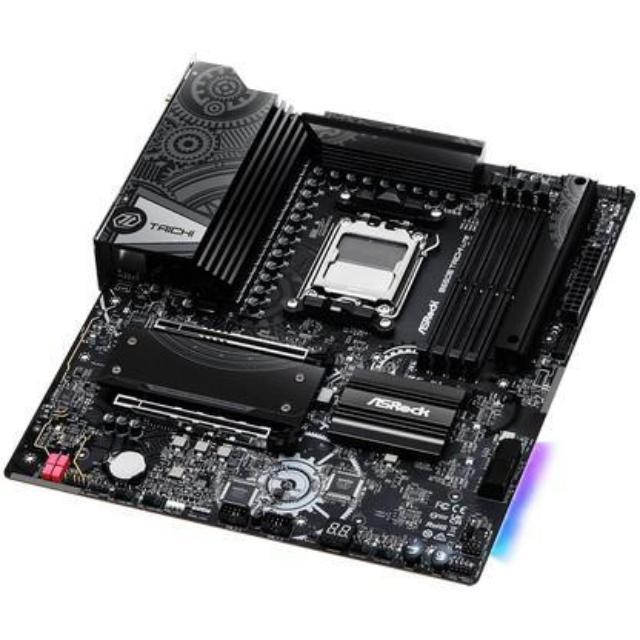Mainboard: (1, 49, 638, 594)
